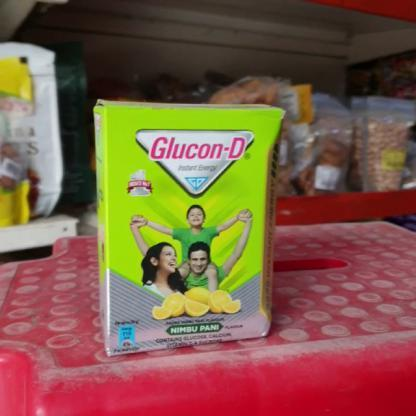Glucon D Nimbu Pani 1-KG: (106, 107, 259, 337)
